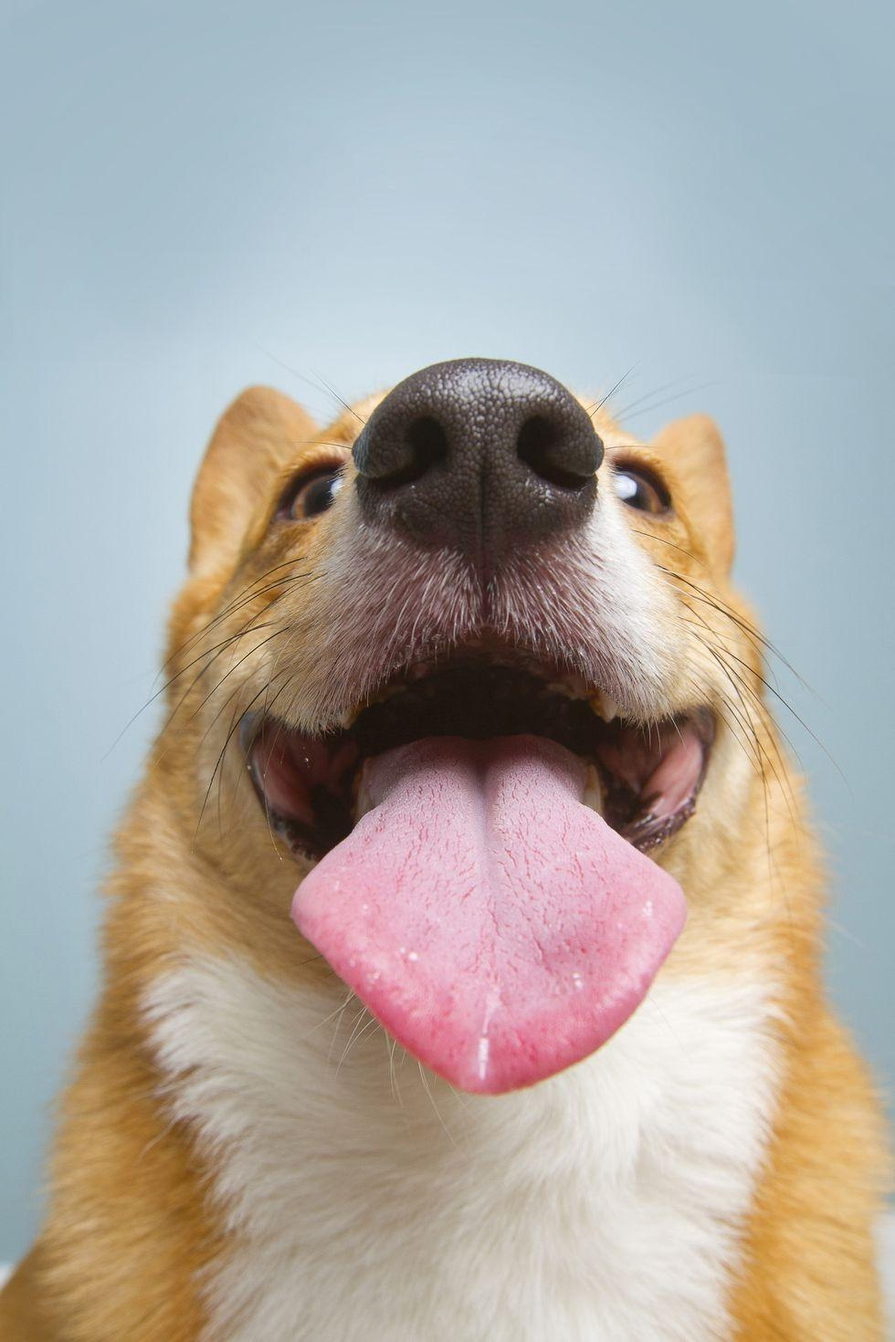adult_dog: (1, 351, 890, 1342)
